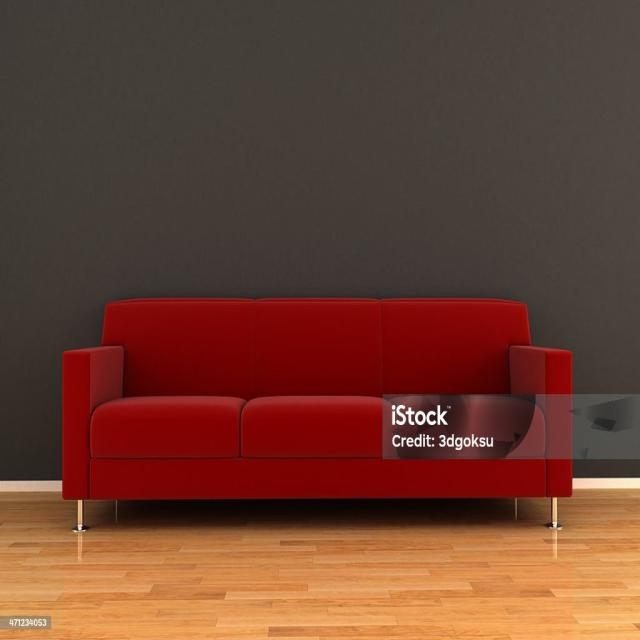back_cushion: (103, 299, 528, 400)
base: (65, 458, 570, 499)
left_arm: (509, 346, 572, 393), (544, 399, 571, 495)
legs: (71, 499, 89, 532), (546, 498, 562, 529)
right_arm: (62, 347, 123, 502)
seat_cushion: (91, 395, 548, 461)
stallion-sofa: (62, 298, 571, 531)
